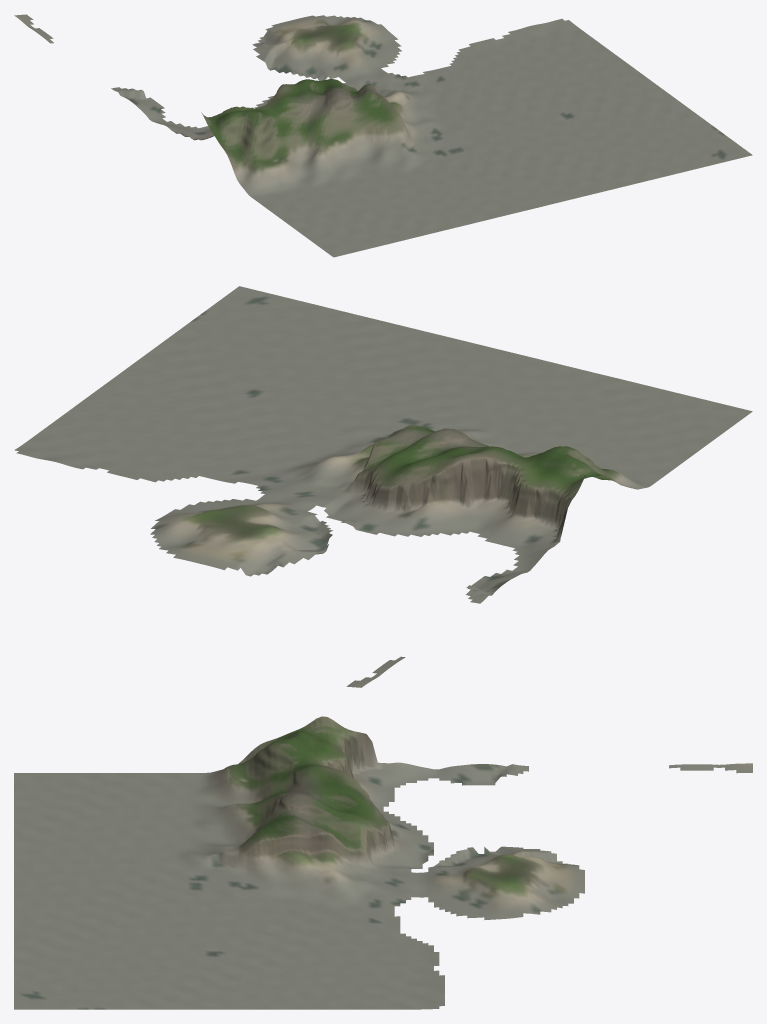
The model's file is coast_tile_x1z3.glb.
3 views of the same model, one above another, from view 1: azimuth 30°, elevation 25°; view 2: azimuth 150°, elevation 25°; view 3: azimuth 270°, elevation 25° (orthographic). The views are drawn at different scales.
Visible parts, largest first — view 1: coast_tile_x1z3; view 2: coast_tile_x1z3; view 3: coast_tile_x1z3.
Boxes of the visible parts, <box> form: coast_tile_x1z3: <box>14,14,752,257</box>; coast_tile_x1z3: <box>14,286,752,687</box>; coast_tile_x1z3: <box>14,716,752,1009</box>.
Bounding box in the file's own units: 600 × 66.88 × 792.
